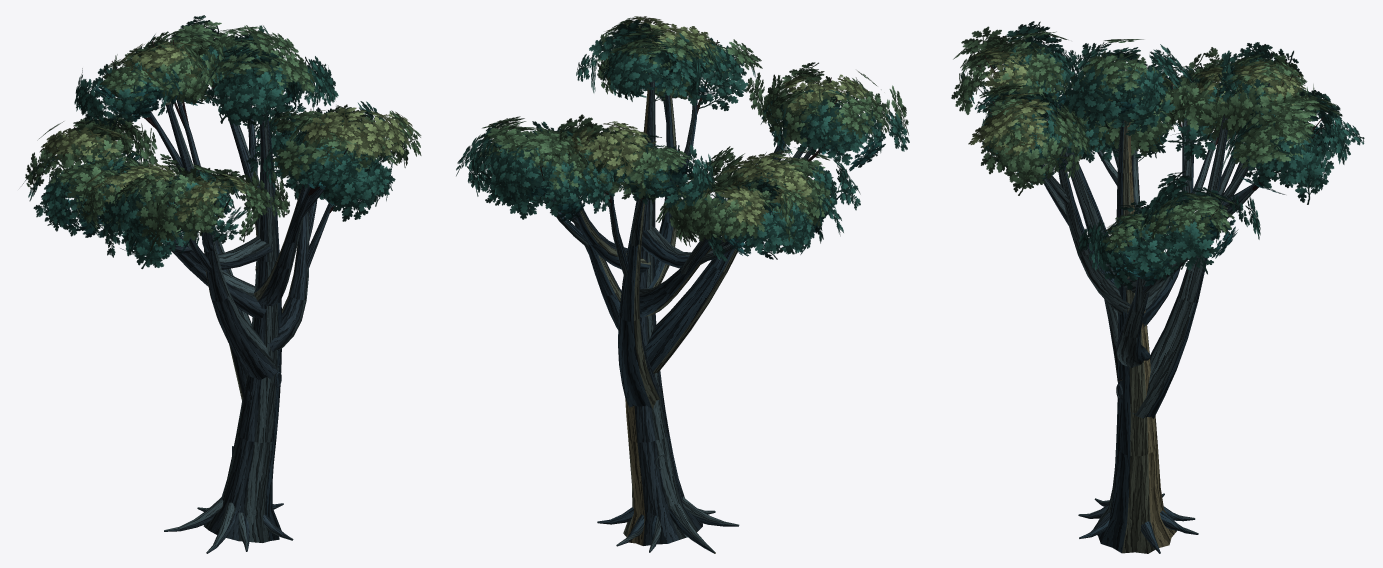
Rendered from understory_oak.glb.
3 views of the same model, side by side, from view 1: azimuth 30°, elevation 25°; view 2: azimuth 150°, elevation 25°; view 3: azimuth 270°, elevation 25° (orthographic). The views are drawn at different scales.
Parts seen in each view (by area): view 1: understory_oak; view 2: understory_oak; view 3: understory_oak.
Part boxes in pixels (x1,y1,x2,y2): understory_oak: [22, 15, 421, 553]; understory_oak: [456, 16, 909, 553]; understory_oak: [951, 21, 1364, 553].
Bounding box in the file's own units: 6.25 × 8.04 × 6.19.
Materials: 2 (2 with a texture image).
